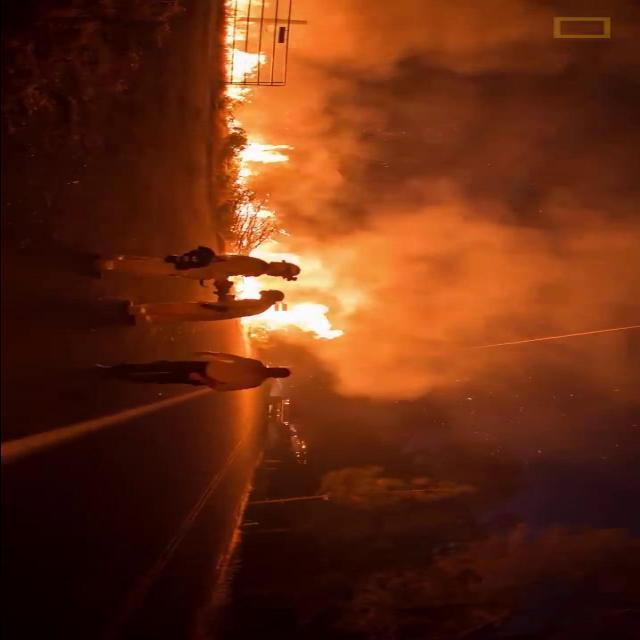Fire: (238, 243, 340, 343), (227, 141, 289, 233), (222, 0, 264, 102)
